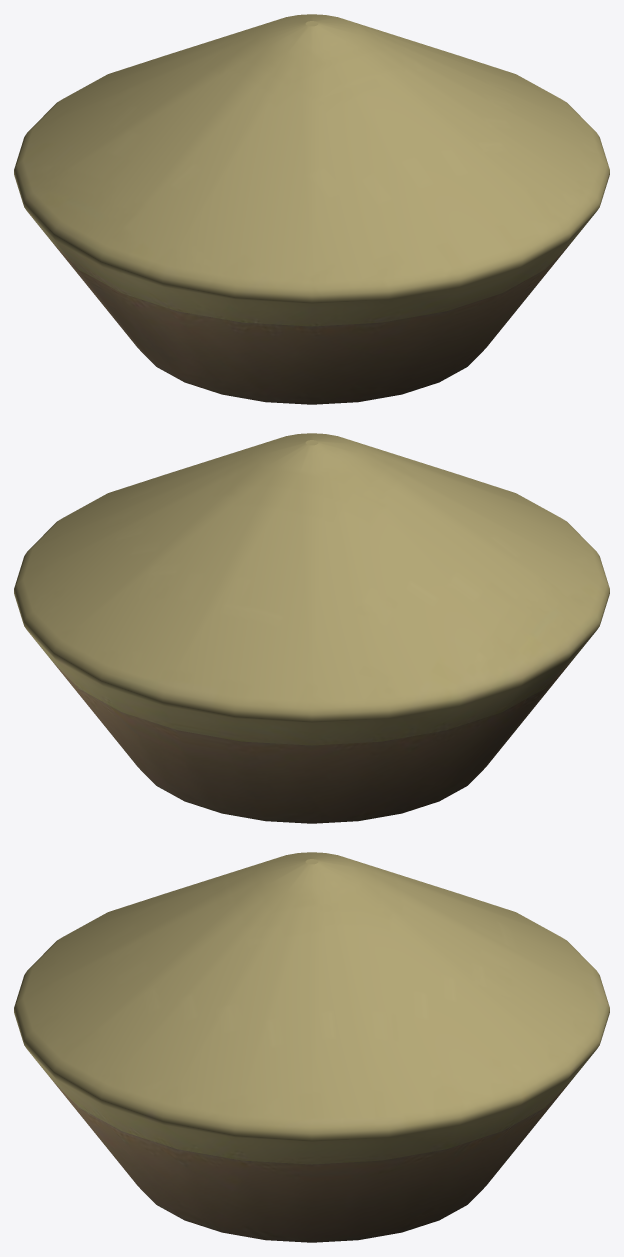
The model's file is osiris_rex_heatshield.glb.
The picture shows the model from 3 angles, top to bottom: view 1: azimuth 30°, elevation 25°; view 2: azimuth 150°, elevation 25°; view 3: azimuth 270°, elevation 25°; orthographic projection.
Visible parts, largest first — view 1: heatshield; view 2: heatshield; view 3: heatshield.
Part boxes in pixels (<box>): heatshield: <box>14,14,609,404</box>; heatshield: <box>14,433,609,823</box>; heatshield: <box>14,852,609,1242</box>.
Bounding box in the file's own units: 0.8163 × 0.4692 × 0.8163.
Materials: 1 (1 with a texture image).
